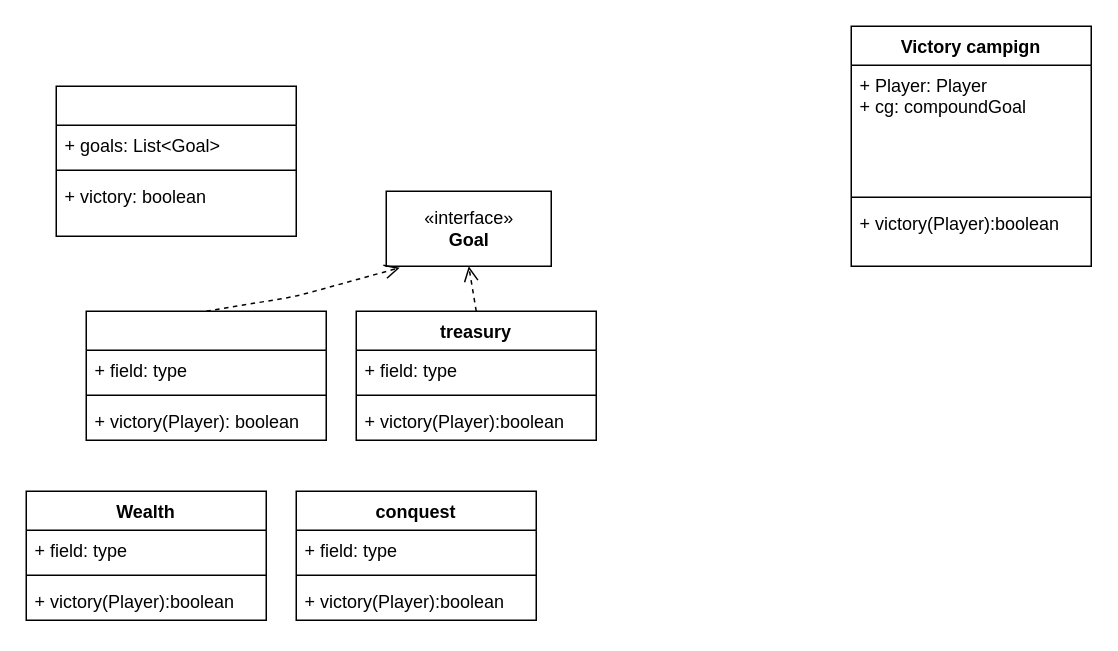
Some shapes in this 1118 by 651 pixel diagram are drawn without their labels. Here are the shapes that lost their labels. From the top down, the box of each, then its label:
(55, 85, 296, 236): Compound Goal
(85, 310, 326, 440): or
